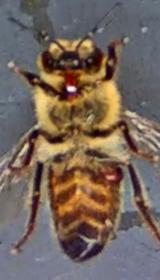varroa_mite: (98, 153, 129, 188)
